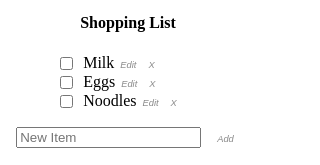
Test: deletes li item
Click the button "X" in the row of "Noodles": {"x": 174, "y": 102} [165,96,183,108]
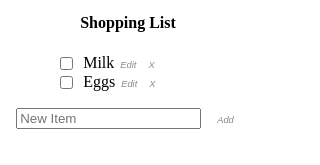
expect the text "Noodles" is gone: met
